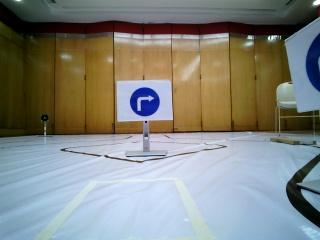right: (118, 82, 166, 119), (303, 18, 318, 113), (319, 29, 320, 110)
